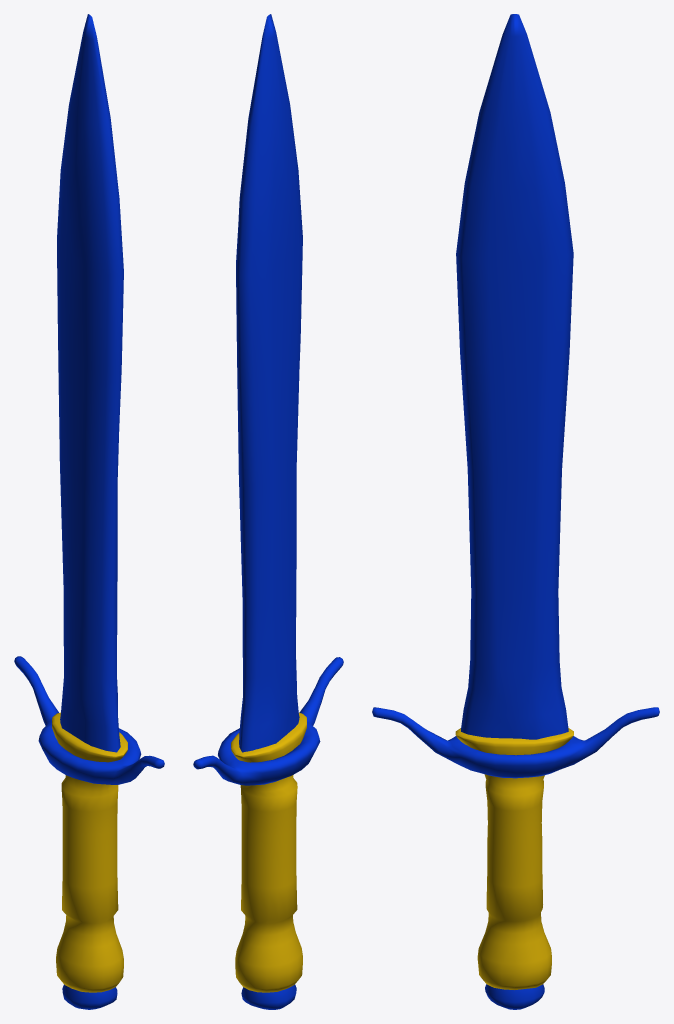
Rendered from MetalSword.fbx.
3 views of the same model, side by side, from view 1: azimuth 30°, elevation 25°; view 2: azimuth 150°, elevation 25°; view 3: azimuth 270°, elevation 25° (orthographic).
Parts seen in each view (by area): view 1: MetalSword; view 2: MetalSword; view 3: MetalSword.
Part boxes in pixels (left/top/right/bottom): MetalSword: left=14, top=14, right=164, bottom=1009; MetalSword: left=193, top=14, right=343, bottom=1009; MetalSword: left=372, top=14, right=659, bottom=1009.
Bounding box in the file's own units: 0.0744 × 0.9121 × 0.2402.
